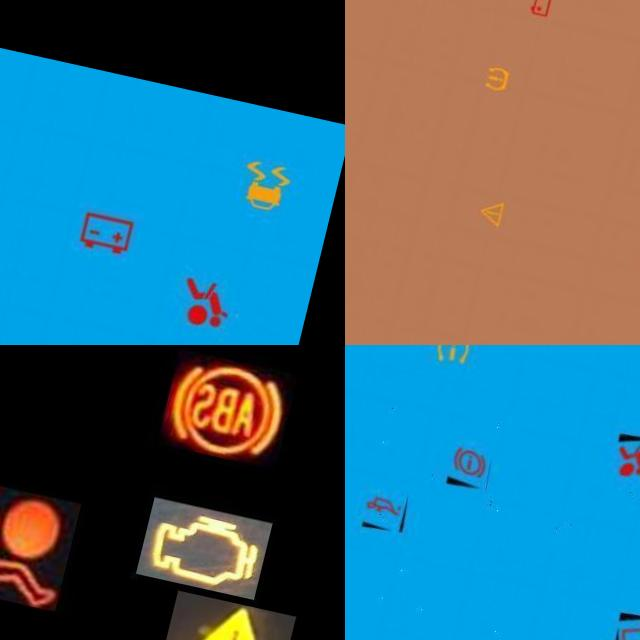Central Warning lamp: (170, 578, 308, 640)
